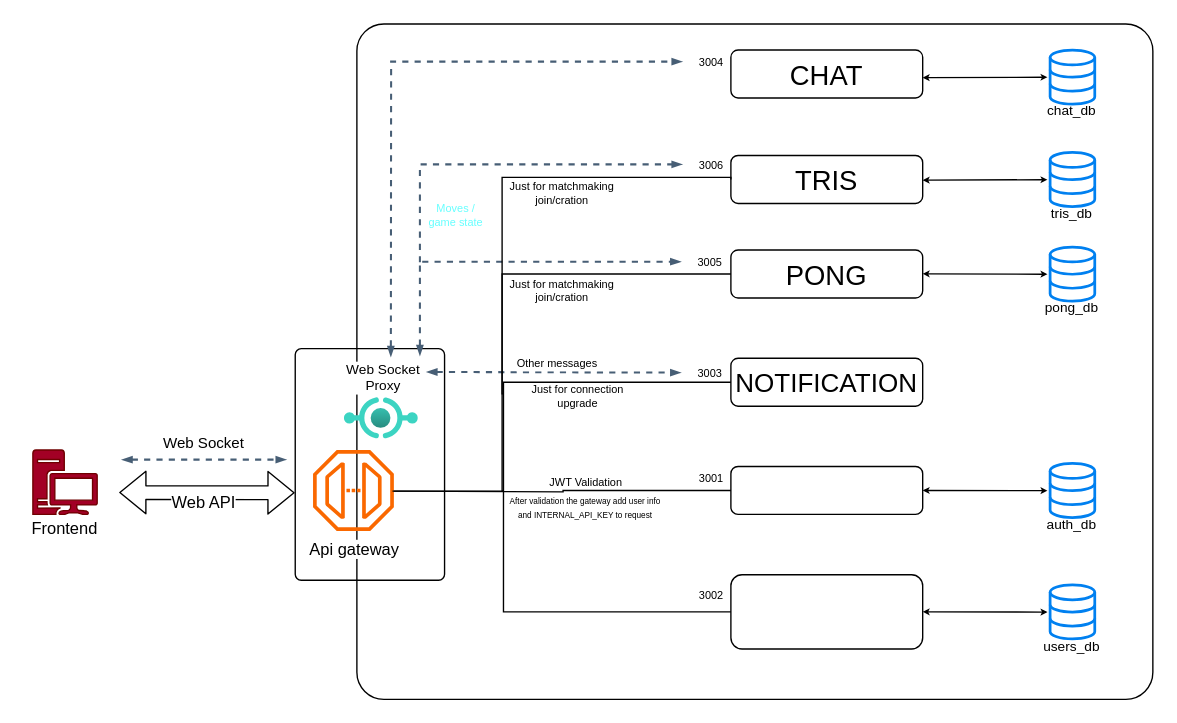
Some shapes in this 1177 by 723 pixel diagram are drawn without their labels. The centre of each missing label's shape, as x and y in pixels:
"AUTH" goes at (x=826, y=489).
"USERS / RELATIONSHIPS" goes at (x=826, y=611).
